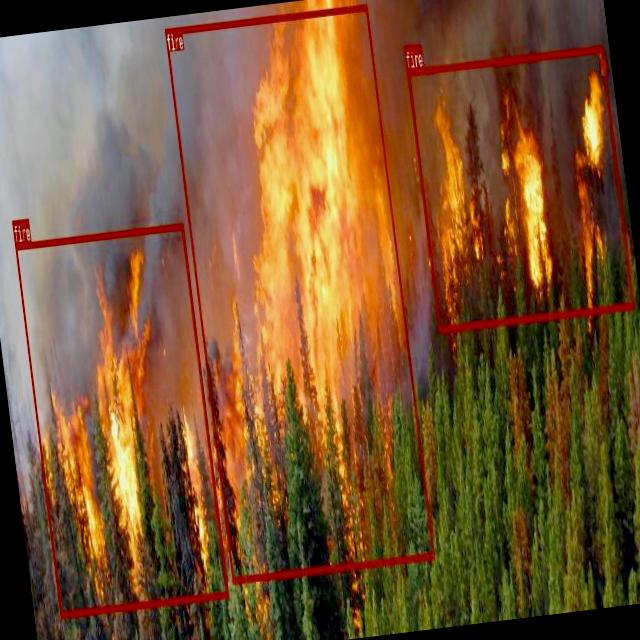fire: (163, 2, 434, 582), (14, 221, 228, 616), (406, 44, 634, 331)
